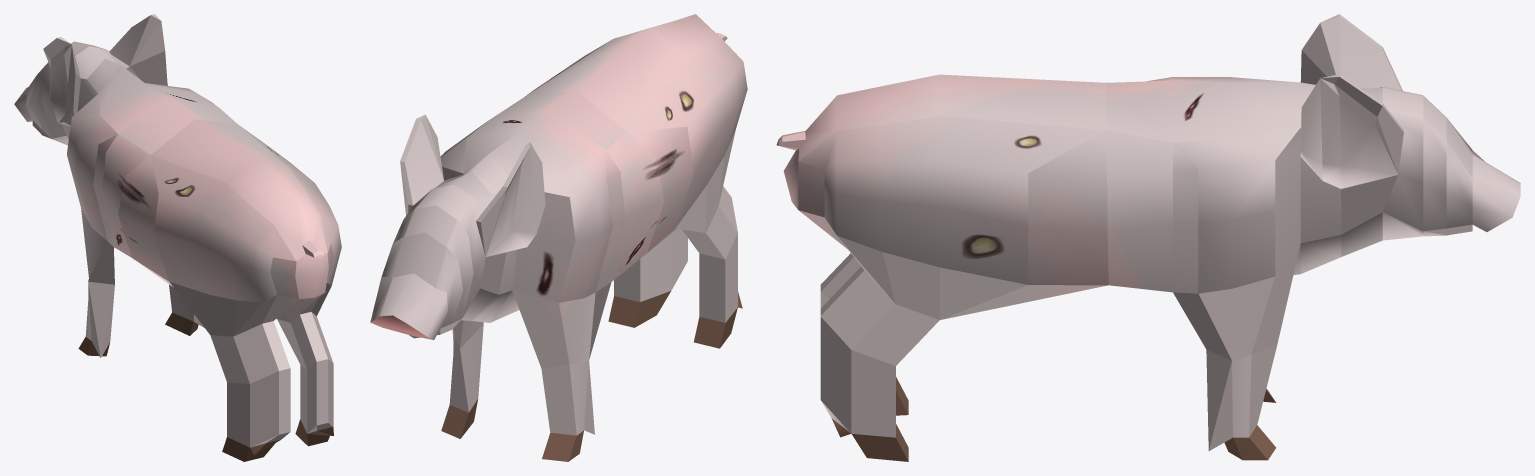
File: MamaPig.fbx
3 views of the same model, side by side, from view 1: azimuth 30°, elevation 25°; view 2: azimuth 150°, elevation 25°; view 3: azimuth 270°, elevation 25° (orthographic). The views are drawn at different scales.
Visible parts, largest first — view 1: Mama_Big; view 2: Mama_Big; view 3: Mama_Big.
Part boxes in pixels (x1,y1,x2,y2): Mama_Big: (14,14,341,461); Mama_Big: (370,14,747,461); Mama_Big: (776,14,1520,461).
Bounding box in the file's own units: 39.1 × 72.15 × 126.
1 material, 1 textured.
